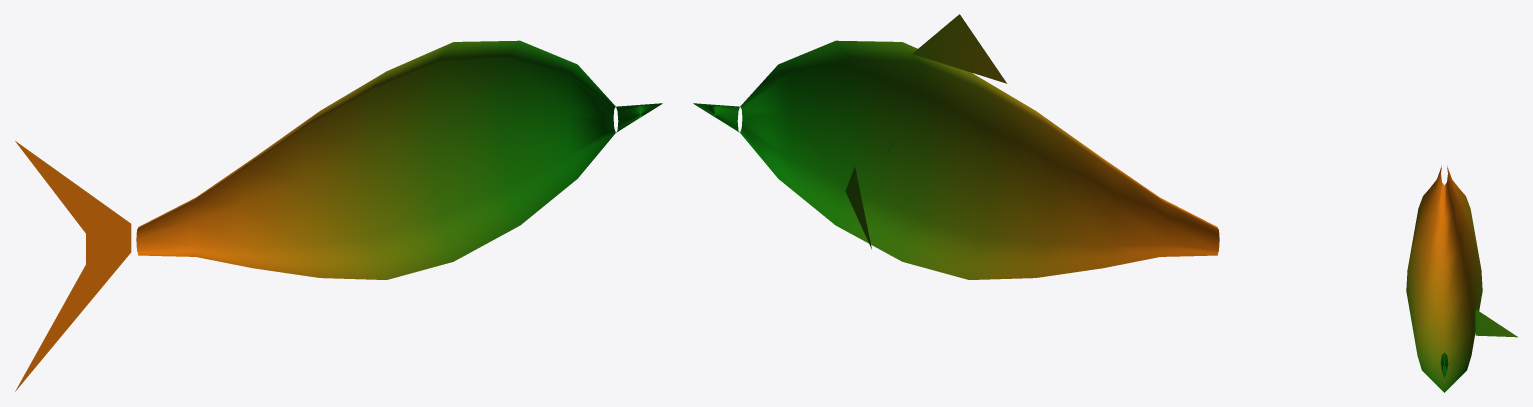
File: fish_a.glb
3 views of the same model, side by side, from view 1: azimuth 30°, elevation 25°; view 2: azimuth 150°, elevation 25°; view 3: azimuth 270°, elevation 25° (orthographic). The views are drawn at different scales.
Visible parts, largest first — view 1: fish_a; view 2: fish_a; view 3: fish_a.
Boxes of the visible parts, bbox=[...] form: fish_a: bbox=[15, 40, 662, 391]; fish_a: bbox=[693, 14, 1219, 279]; fish_a: bbox=[1406, 166, 1517, 392].
Bounding box in the file's own units: 1.36 × 0.572 × 0.323.
